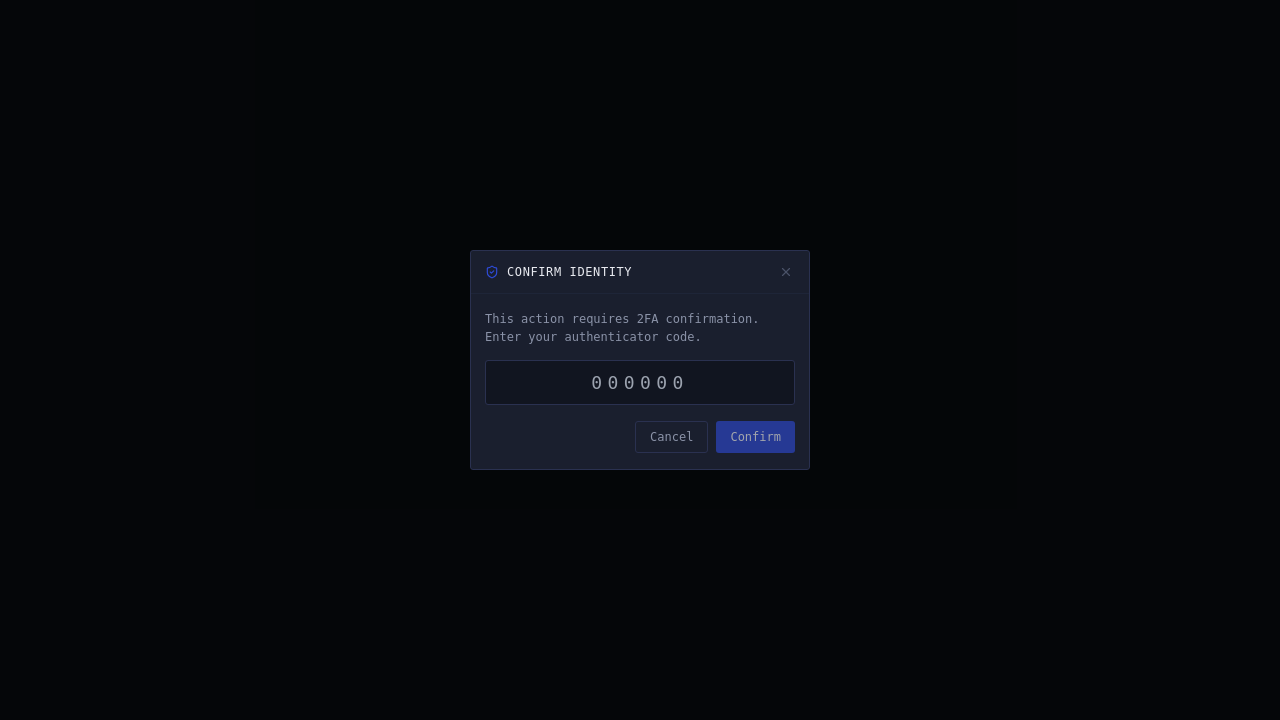
Test: StepUpModal — error handling › should show generic error for unexpected API error
Type "999999" into the field with placeholder "000000".
click(640, 382); type("999999")  # box [485,360,795,405]
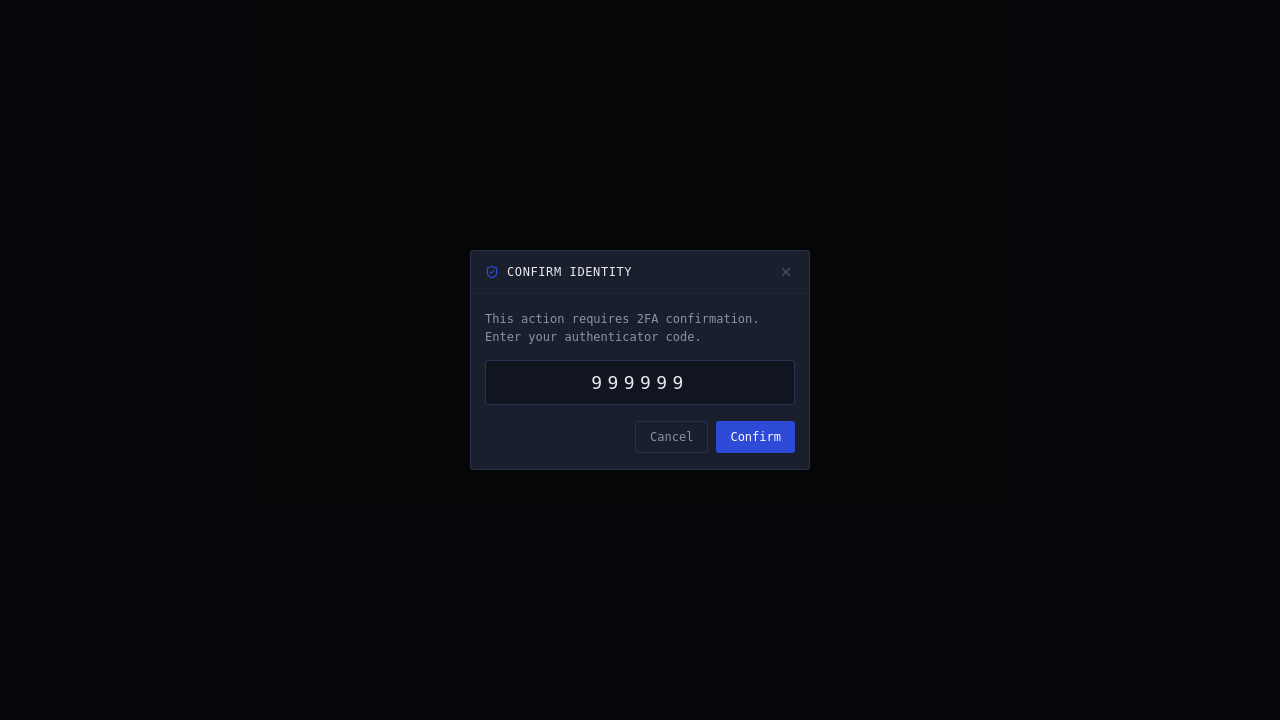
Click the button "Confirm".
click(756, 437)  # box [716,421,795,453]
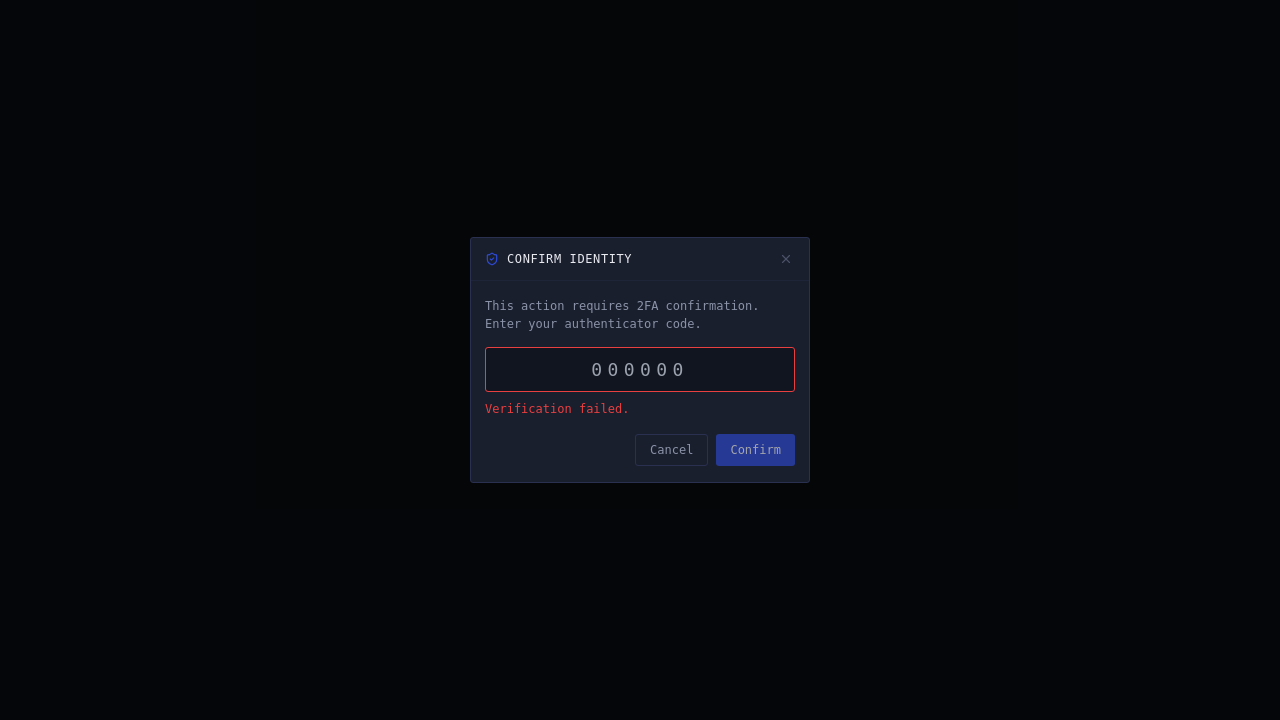
Result: the text "Verification failed." is shown at [485,402,630,416]
